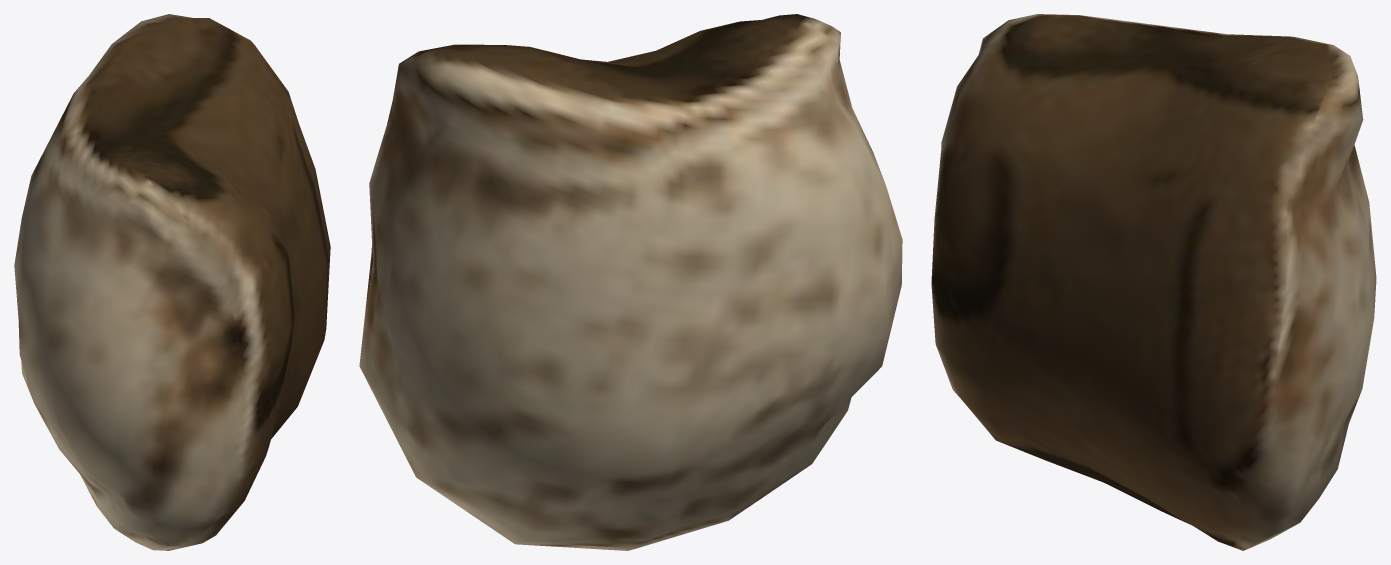
Rendered from Second_Carpal.glb.
The picture shows the model from 3 angles, left to right: view 1: azimuth 30°, elevation 25°; view 2: azimuth 150°, elevation 25°; view 3: azimuth 270°, elevation 25°; orthographic projection. The views are drawn at different scales.
Parts seen in each view (by area): view 1: L_Frt_Second_Carpal; view 2: L_Frt_Second_Carpal; view 3: L_Frt_Second_Carpal.
Boxes of the visible parts, x1,y1,x2,y2 form: L_Frt_Second_Carpal: [14, 14, 330, 550]; L_Frt_Second_Carpal: [359, 14, 902, 550]; L_Frt_Second_Carpal: [931, 14, 1376, 550].
Size of the model in its own units: 0.0217 by 0.0254 by 0.021.
1 material, 1 textured.
